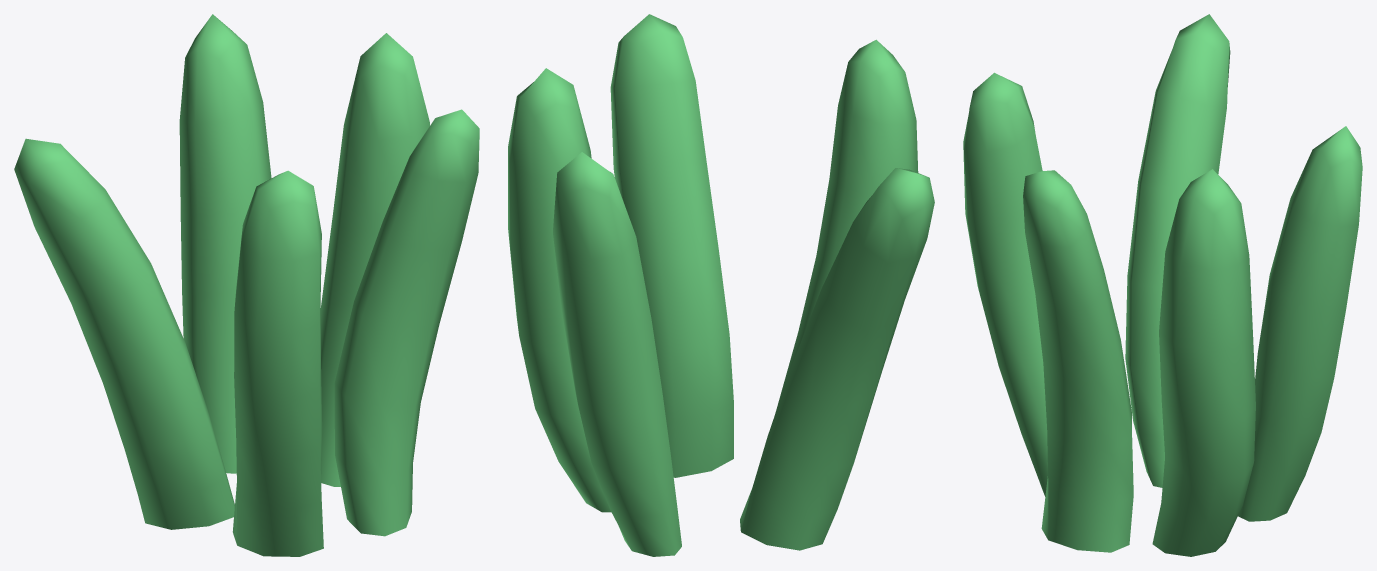
The model's file is Grass_A_04.fbx.
3 views of the same model, side by side, from view 1: azimuth 30°, elevation 25°; view 2: azimuth 150°, elevation 25°; view 3: azimuth 270°, elevation 25° (orthographic). The views are drawn at different scales.
Visible parts, largest first — view 1: Grass_A_04_LOD0; view 2: Grass_A_04_LOD0; view 3: Grass_A_04_LOD0.
Part boxes in pixels (left/top/right/bottom): Grass_A_04_LOD0: left=14, top=14, right=479, bottom=556; Grass_A_04_LOD0: left=508, top=14, right=934, bottom=556; Grass_A_04_LOD0: left=963, top=14, right=1362, bottom=556.
Size of what is drawn, in the model's own units: 329 by 319 by 287.
